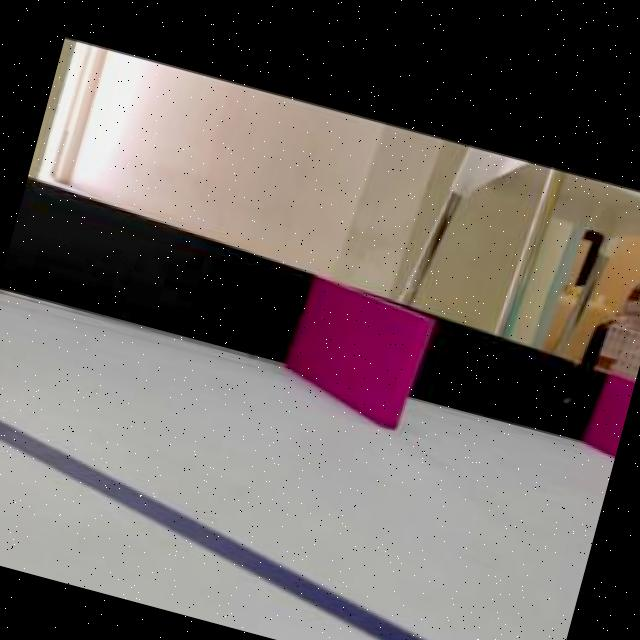xparking: (286, 282, 432, 421), (584, 372, 634, 457)
